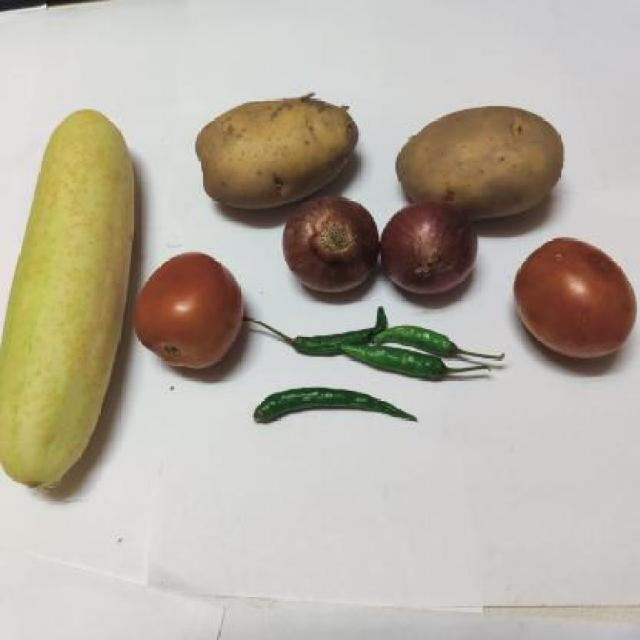Green Chili: (250, 304, 522, 384), (235, 380, 416, 442)
Onion: (285, 192, 383, 300), (377, 204, 475, 294)
Potato: (377, 98, 585, 224), (188, 82, 357, 216)
Tomato: (500, 237, 640, 377), (125, 248, 248, 396)
cucumber: (0, 102, 145, 530)
